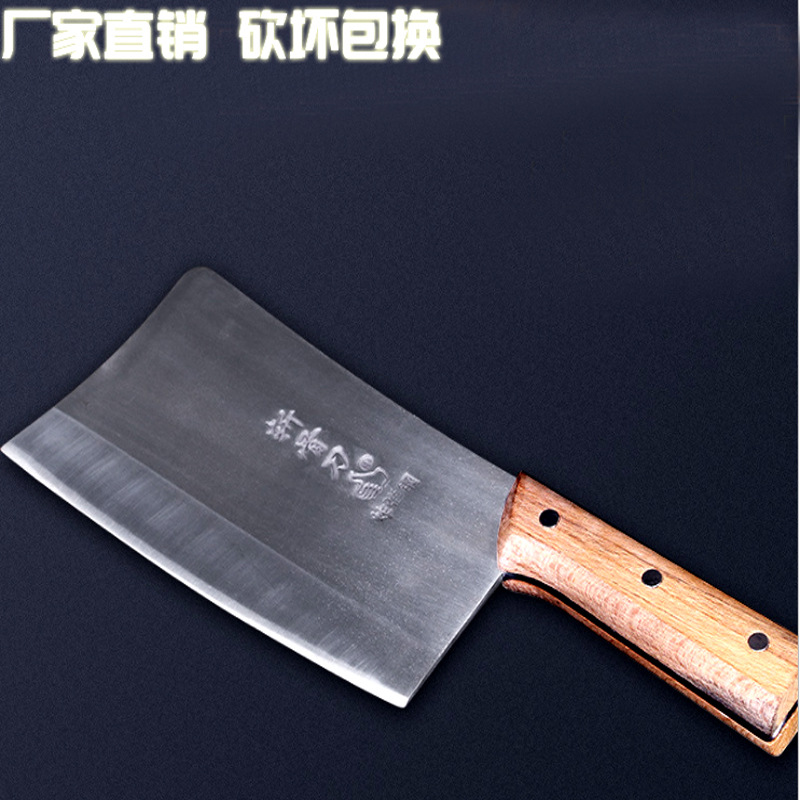knief: (32, 285, 748, 746)
